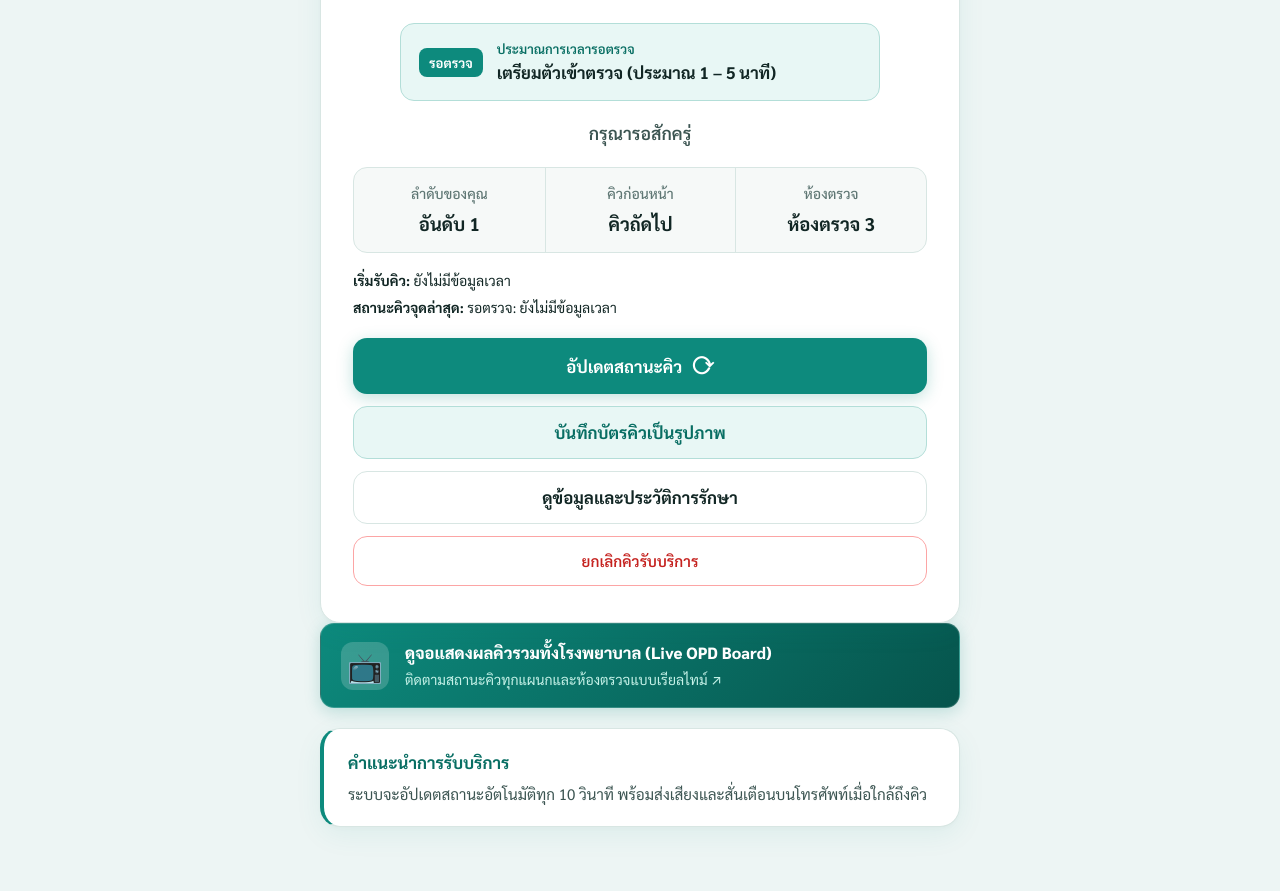
Scenario: QueueStatusView › keeps the queue visible and shows the API error when cancellation fails
(page scrolled)
Click the button "ยกเลิกคิวรับบริการ" at (640, 561), box [353,536,927,586]
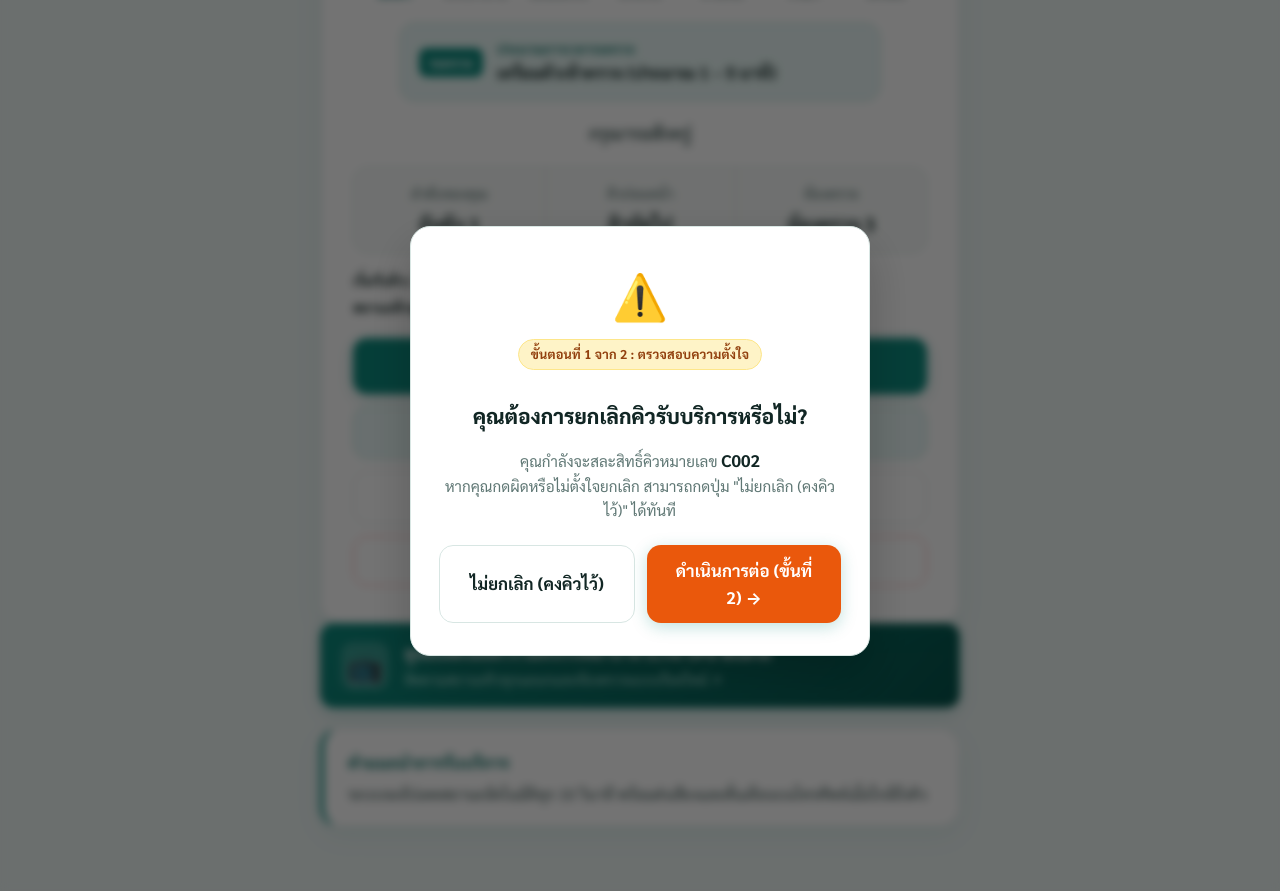
Click the button "ดำเนินการต่อ (ขั้นที่ 2) →" at (744, 584), box [647,545,841,623]
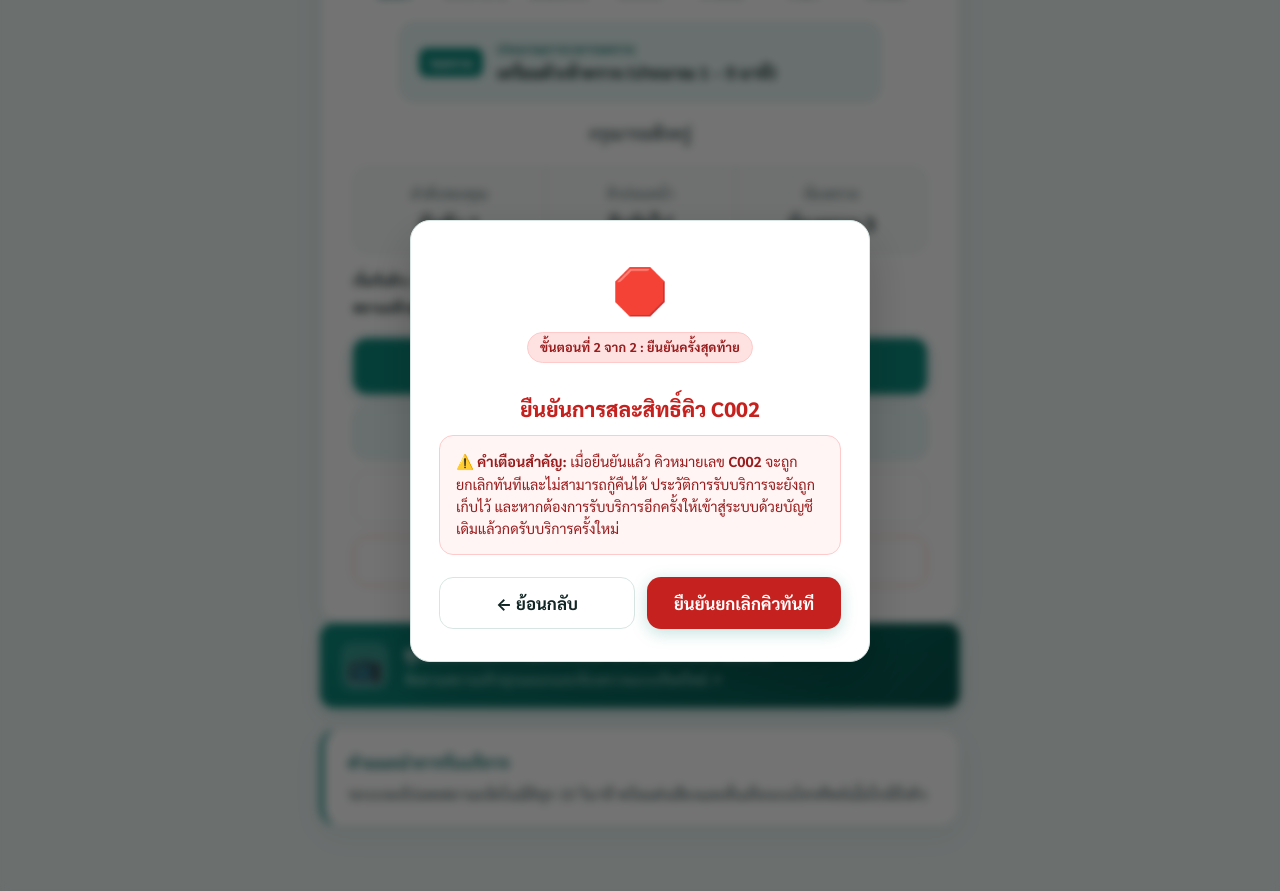
Click the button "ยืนยันยกเลิกคิวทันที" at (744, 603), box [647,576,841,629]
(page scrolled)
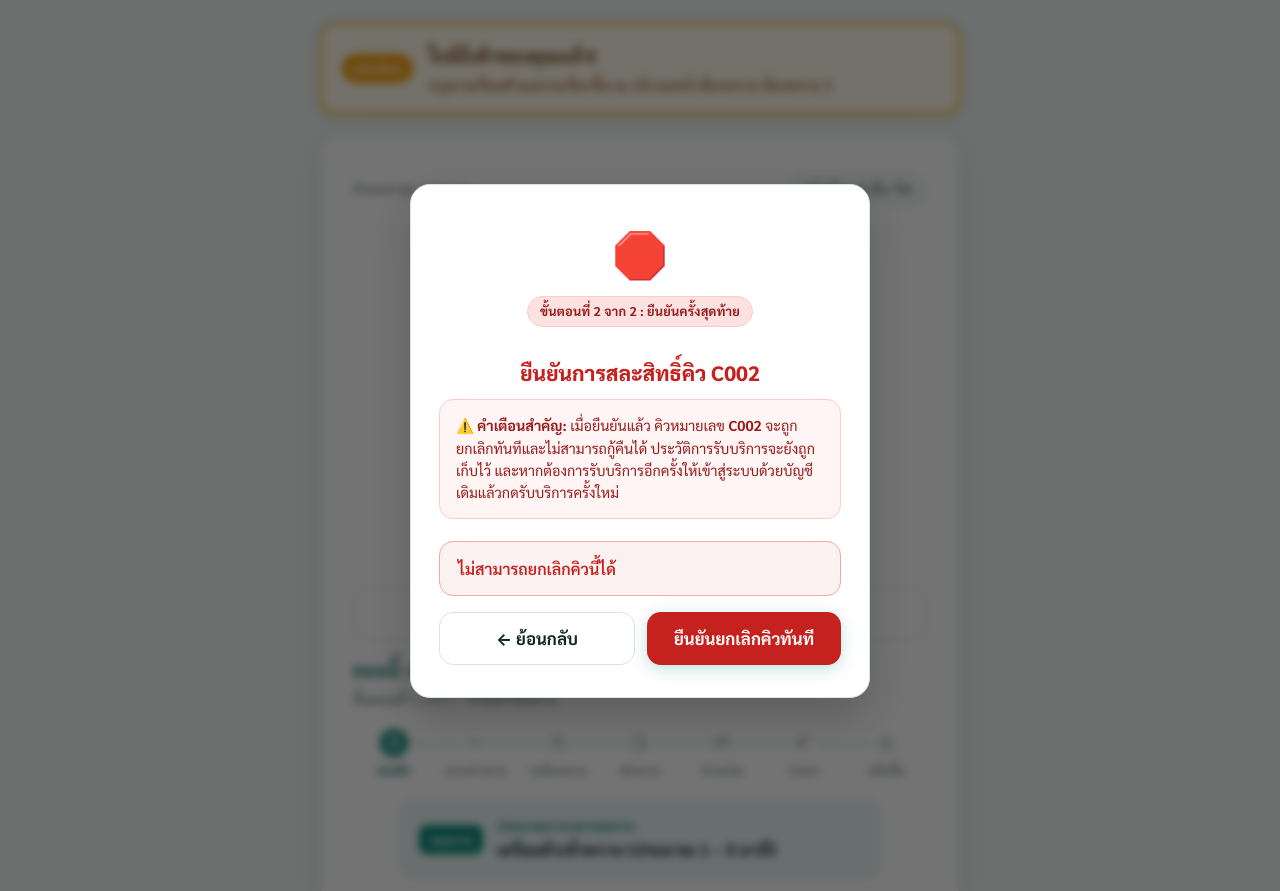
Expected: the text "C002" below "บัตรคิวรับบริการของคุณ" is shown, [540,389,740,493]
Expected: the text "ไม่สามารถยกเลิกคิวนี้ได้" is shown, [439,541,841,596]
